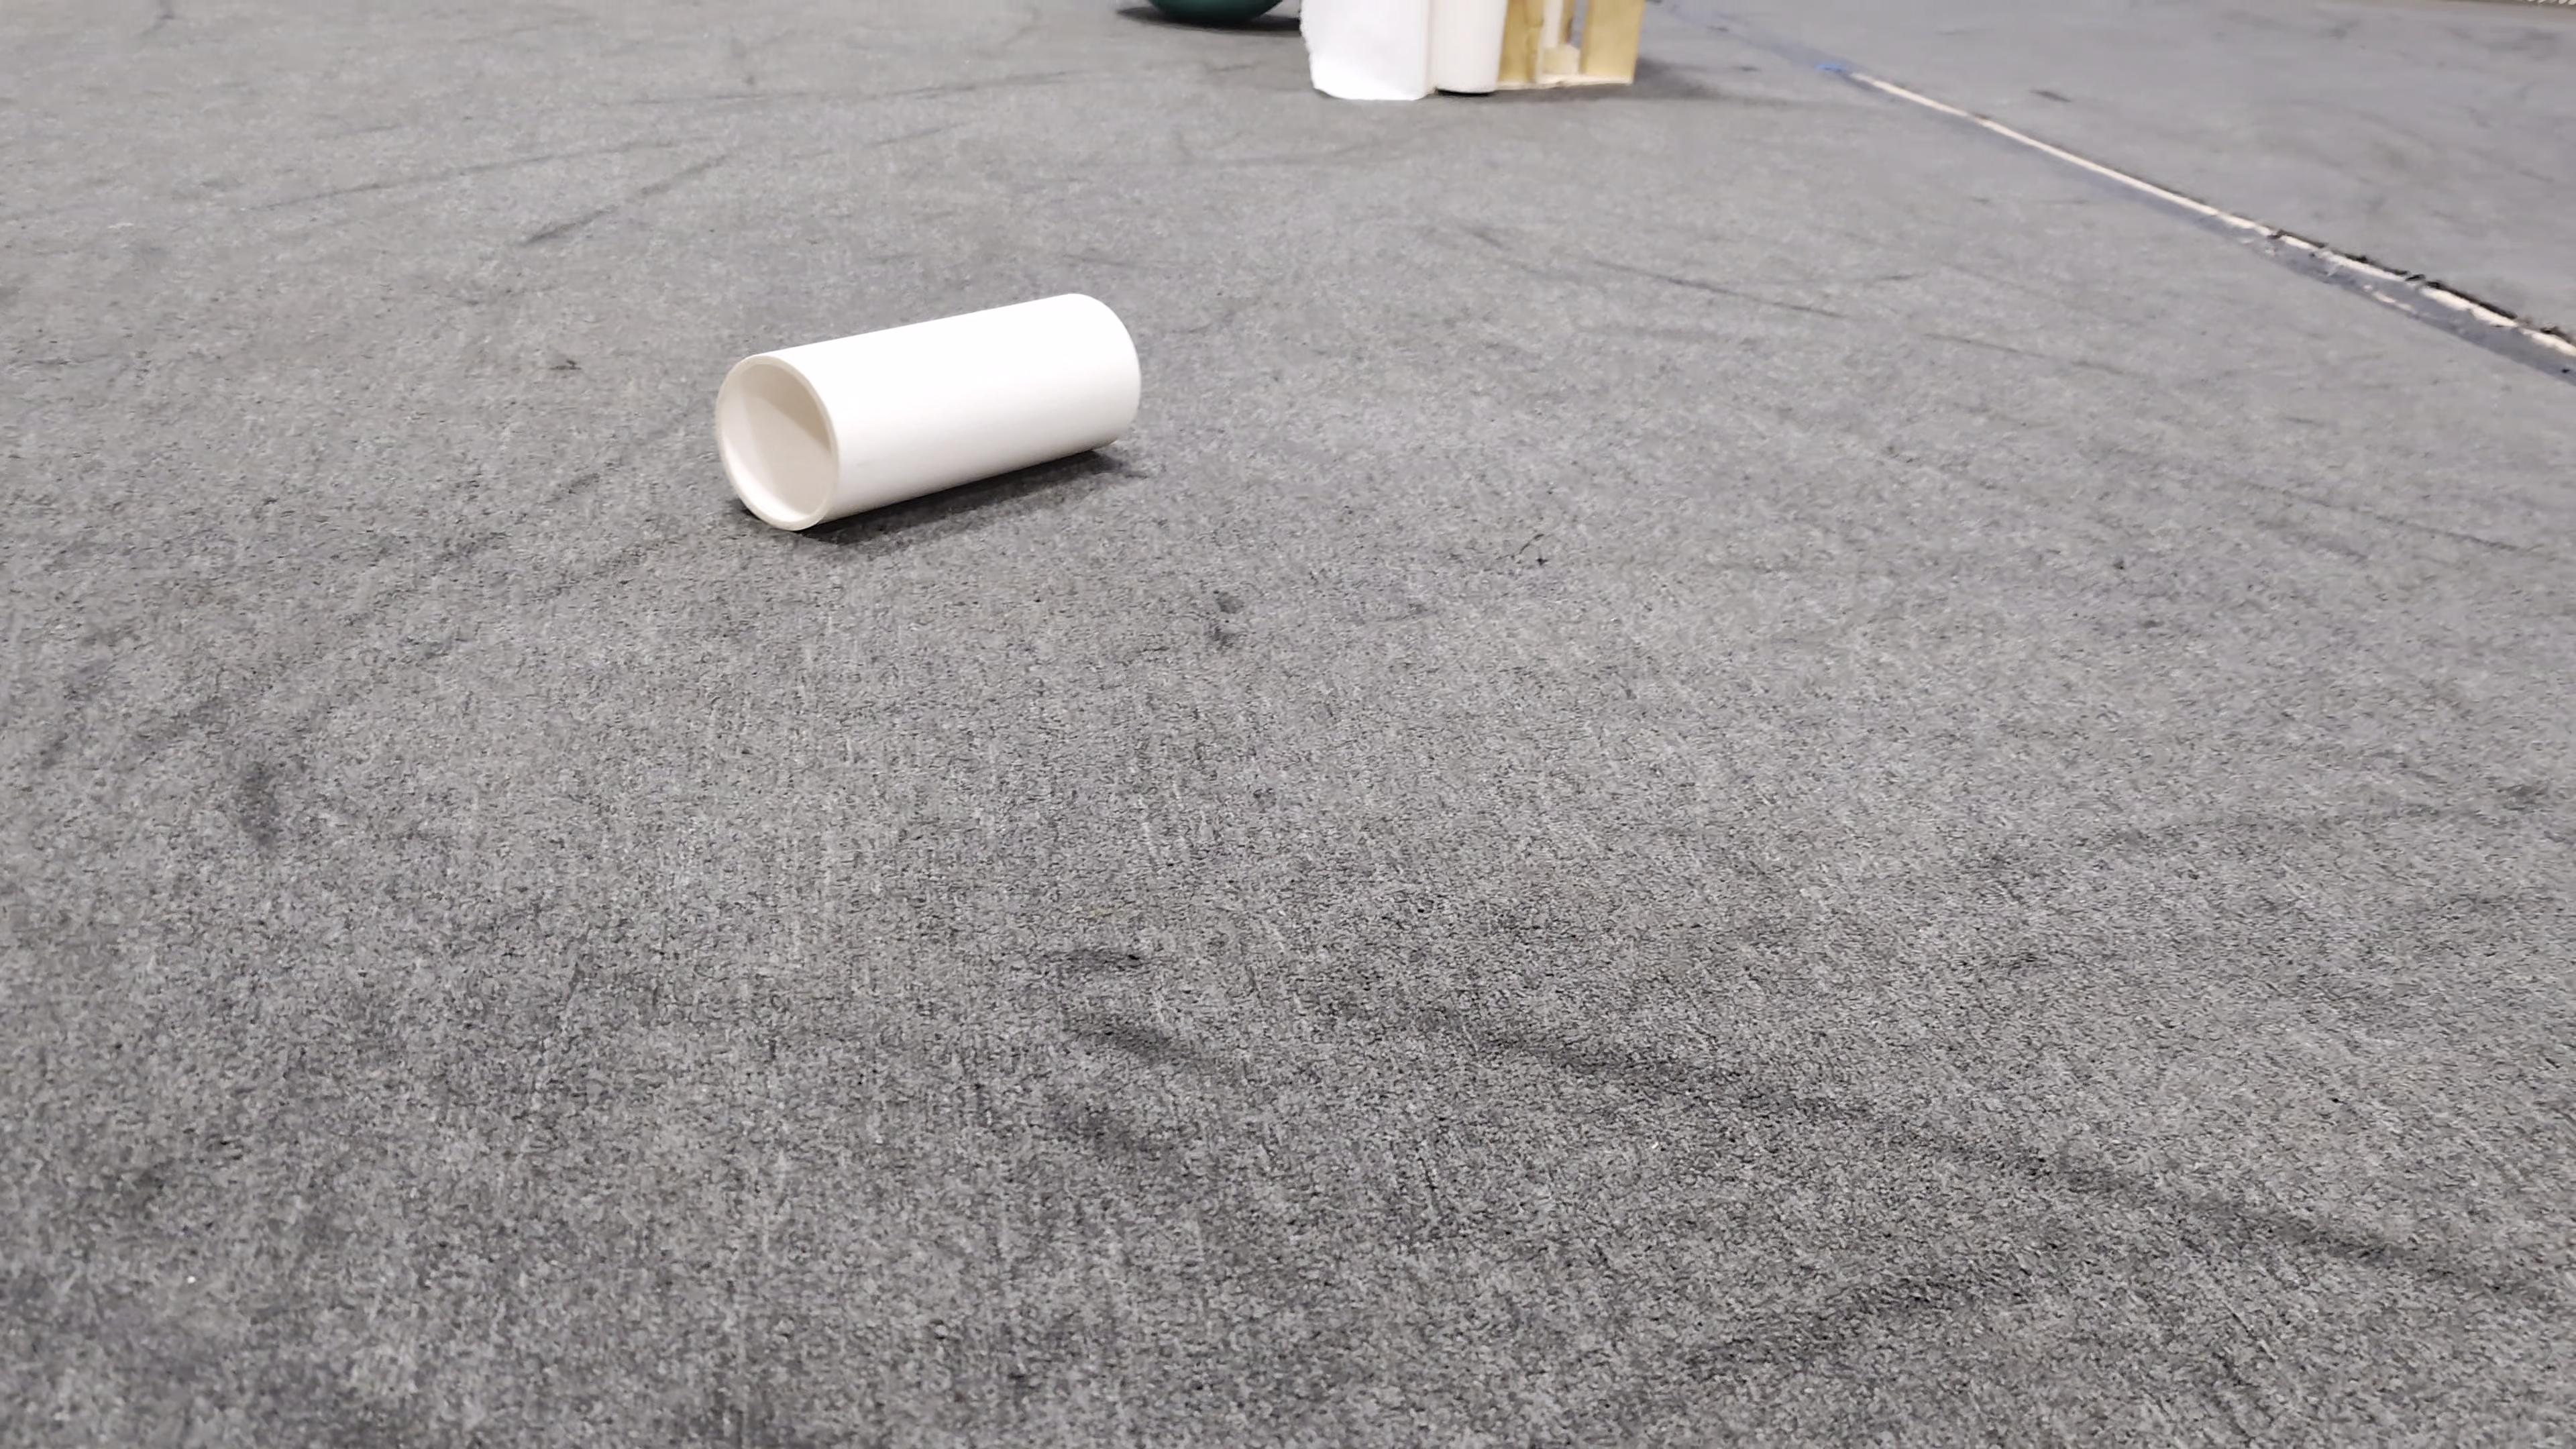coral: (713, 288, 1141, 533)
